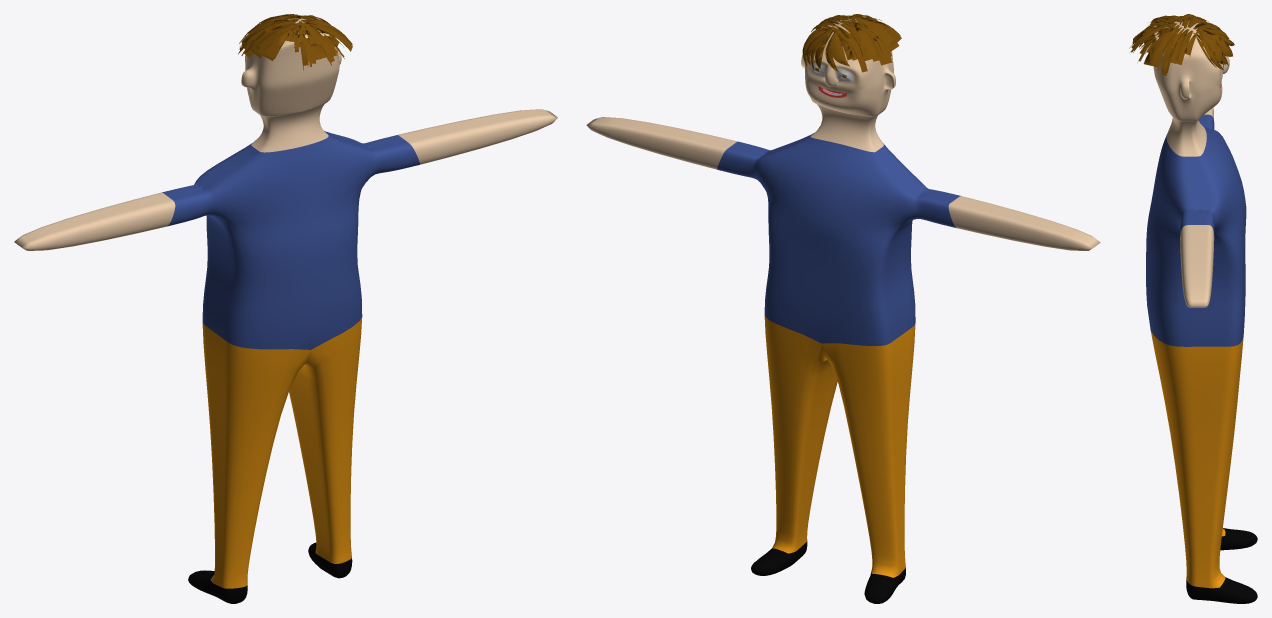
Rendered from Kind_3_T_Form.neu (1).fbx.
3 views of the same model, side by side, from view 1: azimuth 30°, elevation 25°; view 2: azimuth 150°, elevation 25°; view 3: azimuth 270°, elevation 25° (orthographic). The views are drawn at different scales.
Visible parts, largest first — view 1: Cube, NurbsPath.001; view 2: Cube, NurbsPath.001; view 3: Cube, NurbsPath.001.
Part boxes in pixels (left/top/right/bottom): Cube: left=14, top=18, right=557, bottom=603; NurbsPath.001: left=238, top=14, right=352, bottom=70; Cube: left=586, top=16, right=1100, bottom=603; NurbsPath.001: left=802, top=14, right=901, bottom=72; Cube: left=1146, top=21, right=1257, bottom=603; NurbsPath.001: left=1129, top=14, right=1234, bottom=75.
Size of the model in its own units: 88.95 by 91.54 by 19.26.
